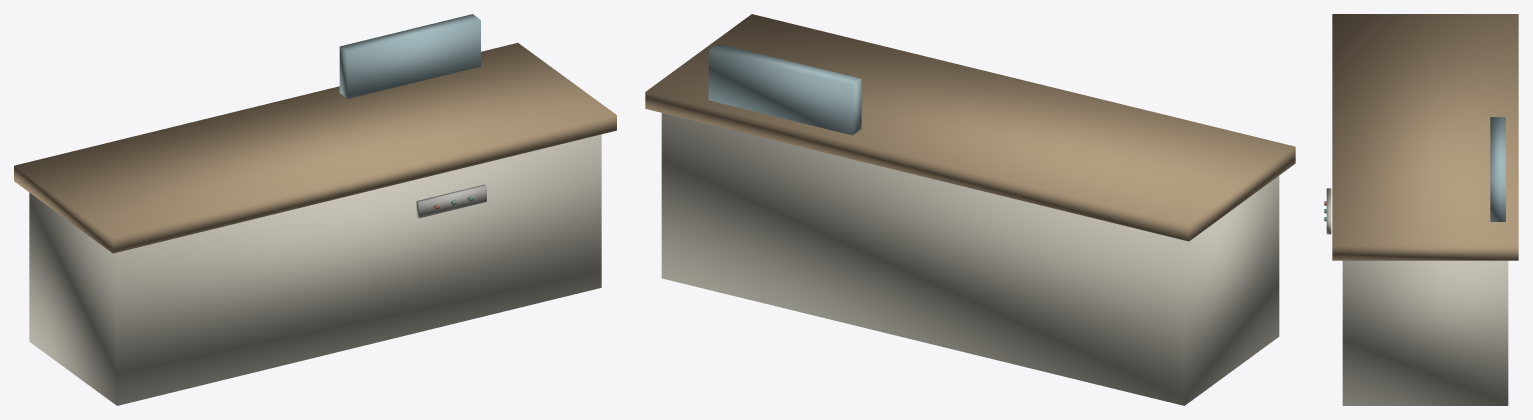
File: service_counter__squat.glb
3 renders of one model, left to right at view 1: azimuth 30°, elevation 25°; view 2: azimuth 150°, elevation 25°; view 3: azimuth 270°, elevation 25°, orthographic. The views are drawn at different scales.
Parts seen in each view (by area): view 1: world; view 2: world; view 3: world.
Part boxes in pixels (x1,y1,x2,y2): world: (14,14,616,405); world: (645,14,1295,405); world: (1324,14,1518,405).
Bounding box in the file's own units: 2.29 × 0.9576 × 0.8111.
